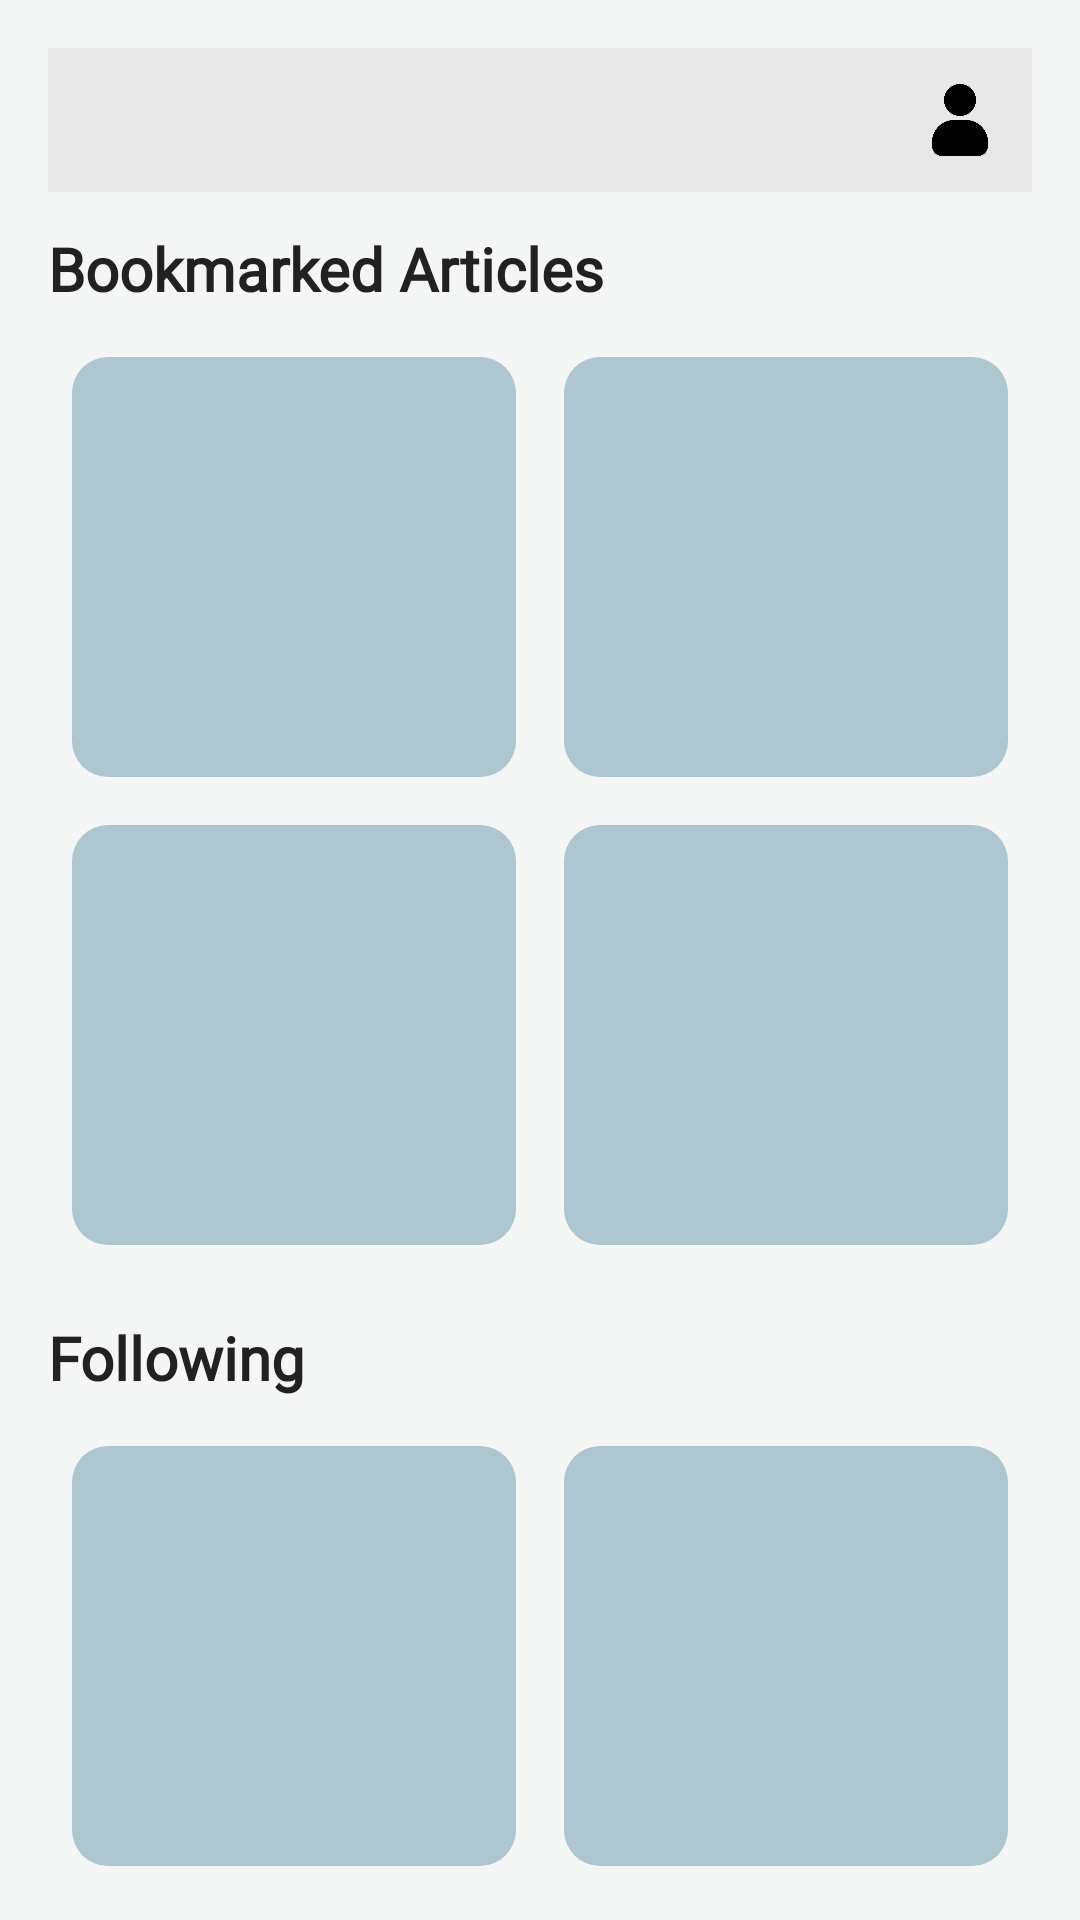

Locate icon controls on the screen. Image size 1080*1920, boxes as [x1=x1, y1=y1, x2=x2, y2=y2].
user: [x1=932, y1=84, x2=988, y2=156]
